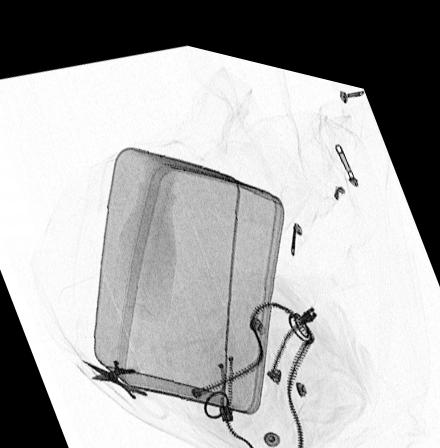Scissors: (81, 337, 172, 411)
